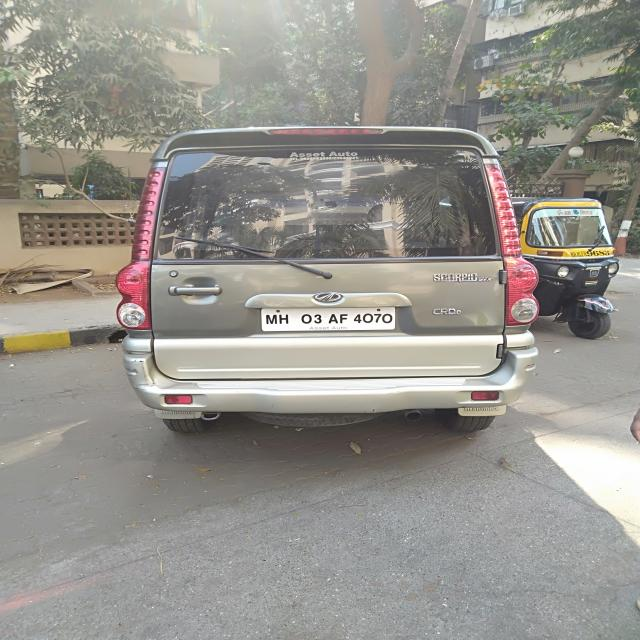Number-Plate: (264, 307, 386, 330)
